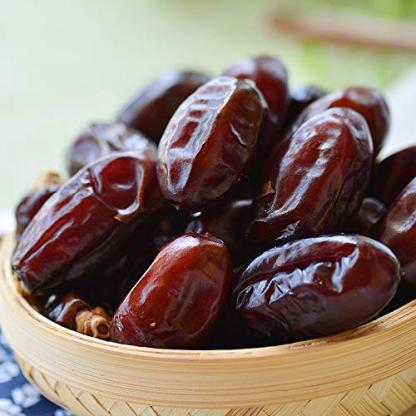dates: (246, 87, 388, 247), (12, 153, 156, 295), (158, 56, 287, 212), (230, 235, 399, 337), (112, 232, 228, 349), (115, 71, 209, 147), (66, 120, 156, 178), (378, 174, 415, 299)
